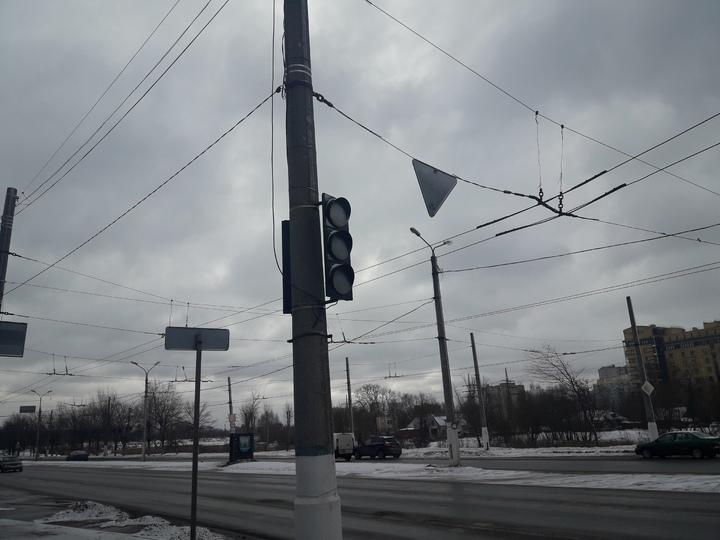off traffic light: (322, 195, 354, 300)
